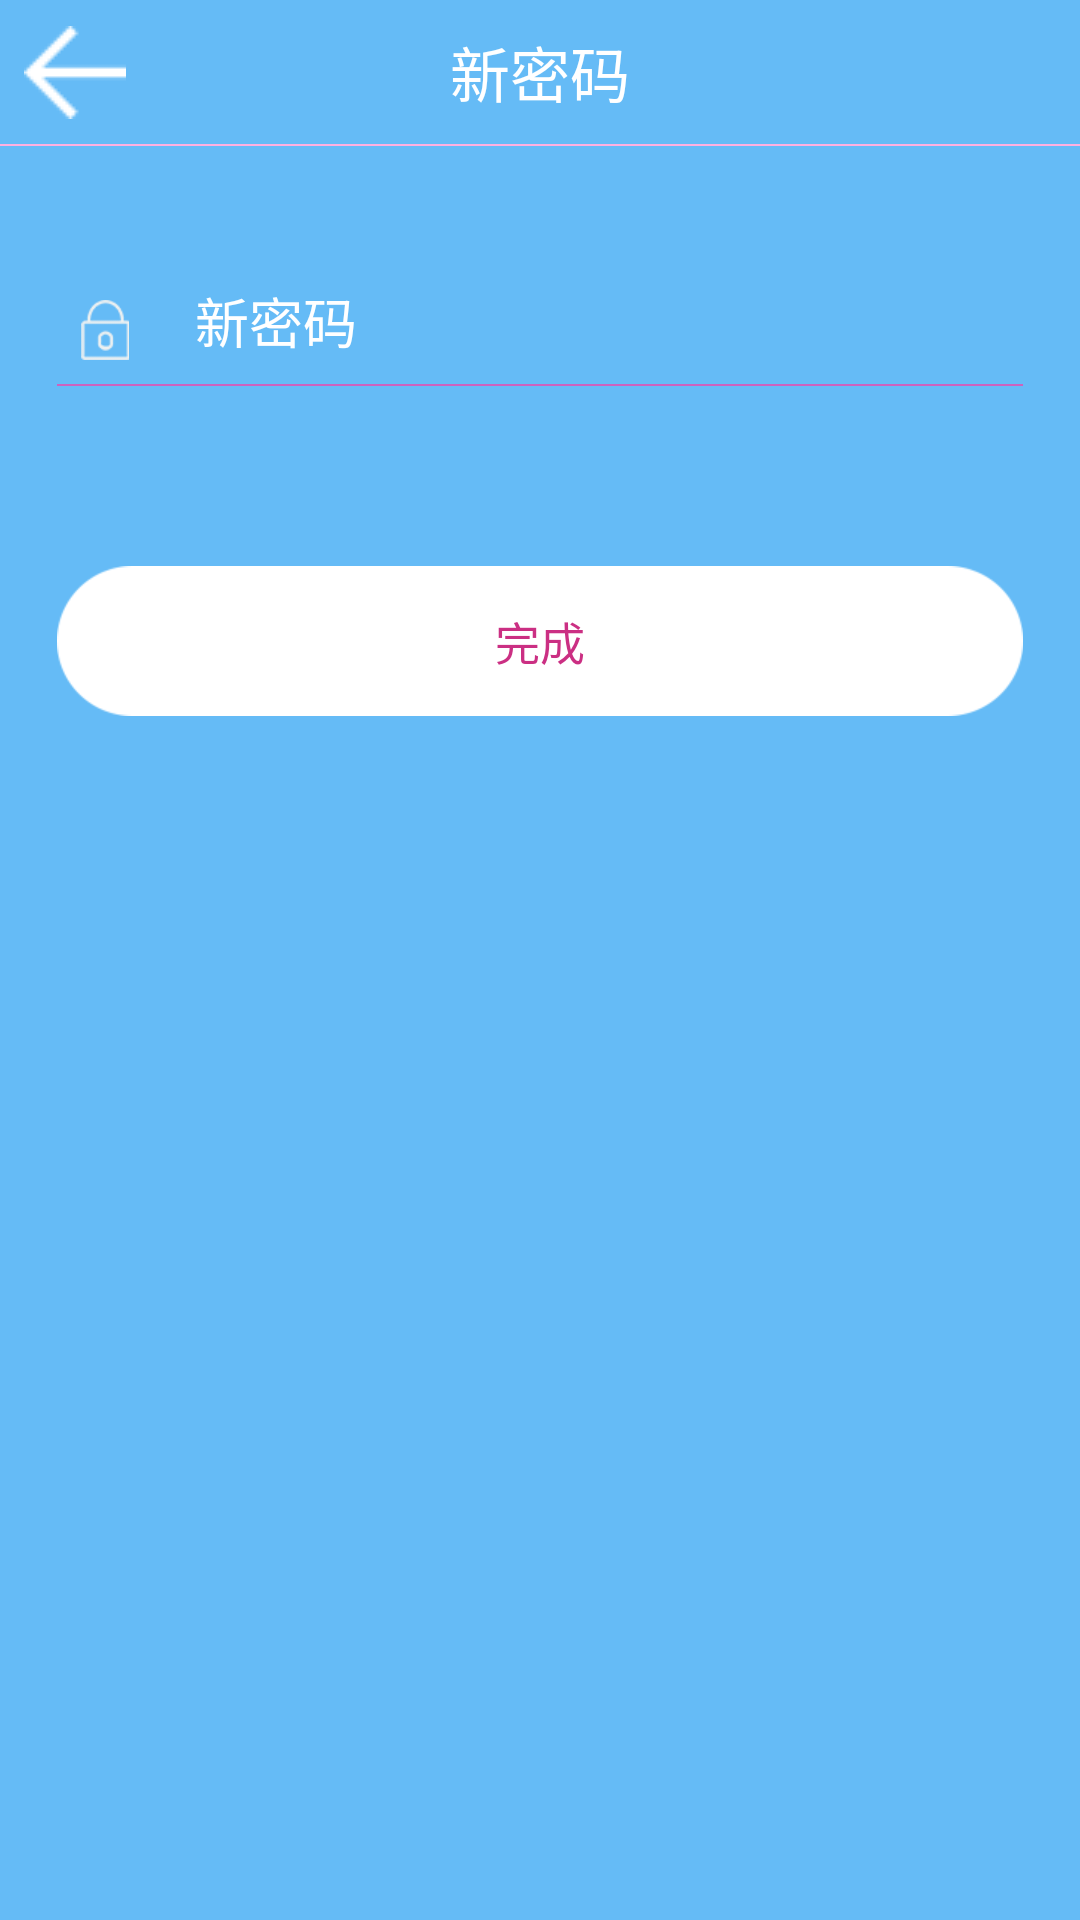

Where icons sit on this 1080*1920 app screen, as (x1, y1, x2, y2):
passowrd: (81, 300, 129, 360)
